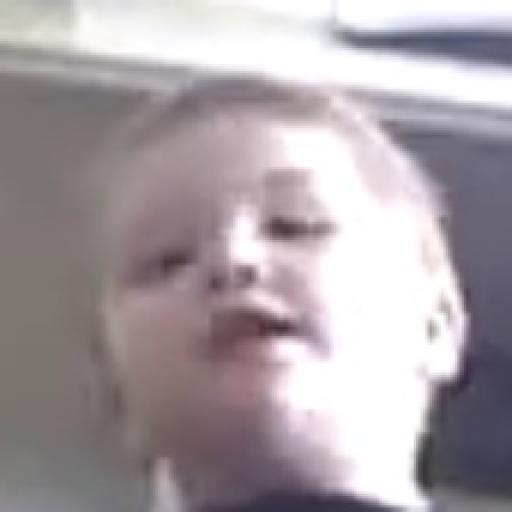Autism: (38, 121, 492, 482)
